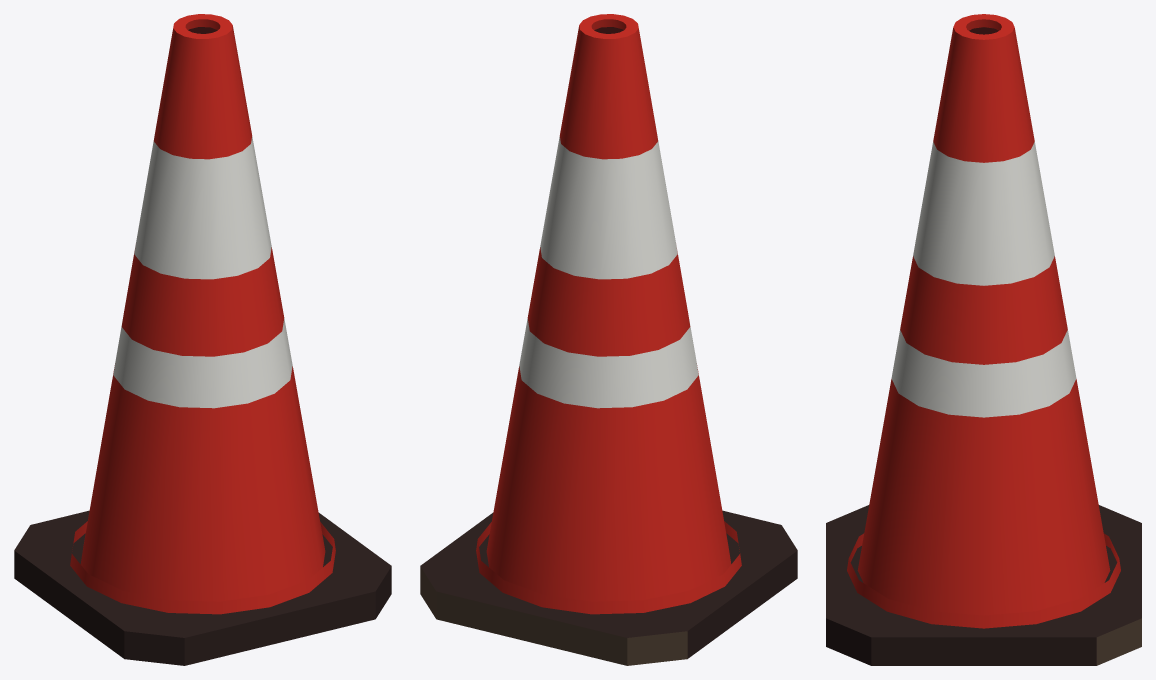
Rendered from traffic_cone.glb.
3 views of the same model, side by side, from view 1: azimuth 30°, elevation 25°; view 2: azimuth 150°, elevation 25°; view 3: azimuth 270°, elevation 25° (orthographic). The views are drawn at different scales.
Parts seen in each view (by area): view 1: traffic_cone; view 2: traffic_cone; view 3: traffic_cone.
Boxes of the visible parts, x1,y1,x2,y2 form: traffic_cone: (14,14,391,665); traffic_cone: (420,14,797,665); traffic_cone: (826,14,1141,665).
Bounding box in the file's own units: 0.35 × 0.7 × 0.35.
